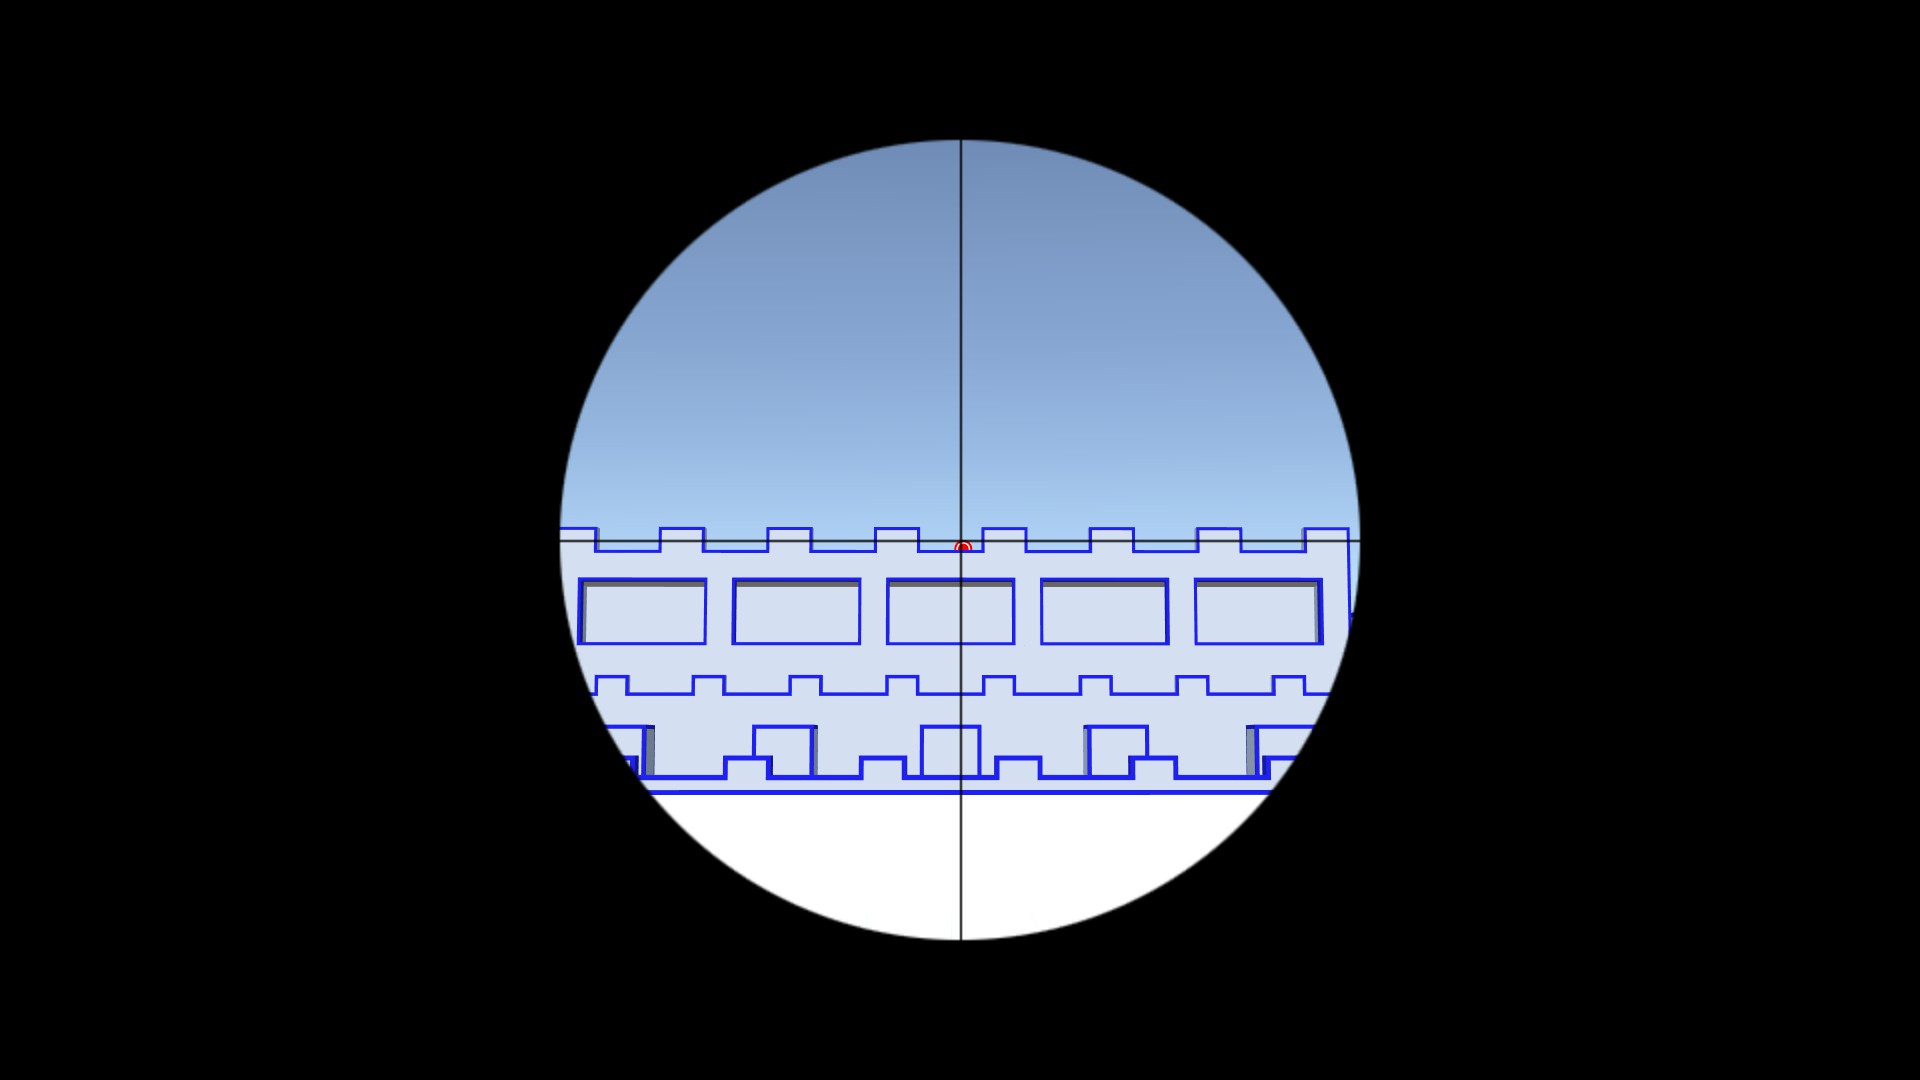target: (953, 539, 975, 551)
